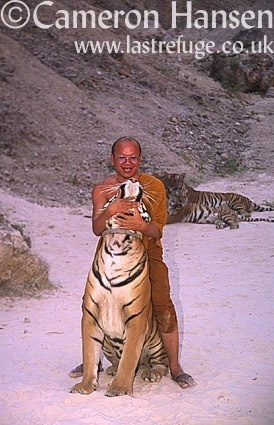tigre: (69, 180, 170, 398), (161, 190, 266, 230), (160, 170, 264, 208)
